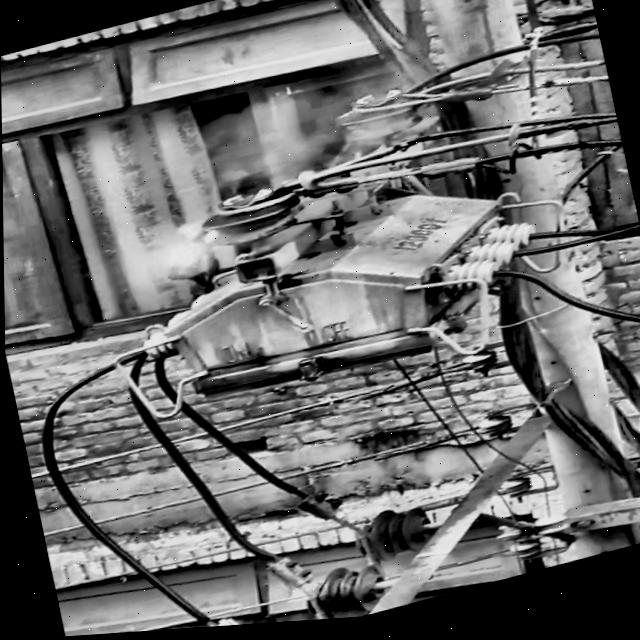Fire: (125, 218, 238, 289)
